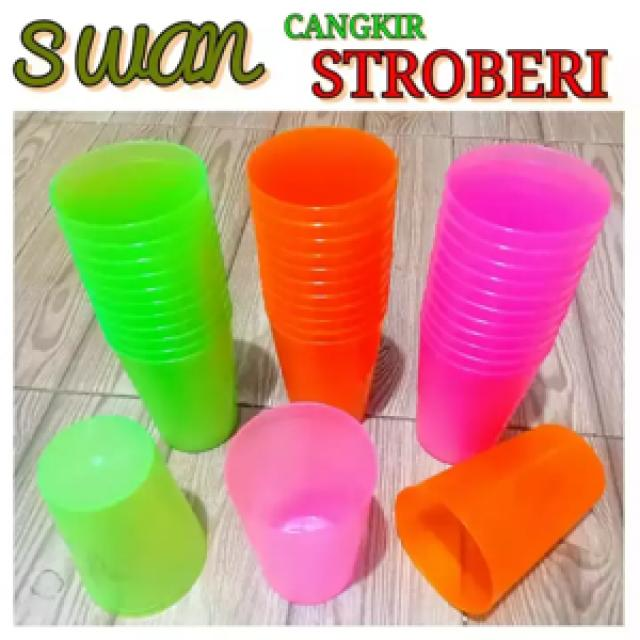plastic cup: (406, 137, 616, 470), (47, 132, 243, 459), (239, 126, 403, 422), (386, 418, 615, 619), (30, 410, 215, 620), (215, 397, 384, 614)
